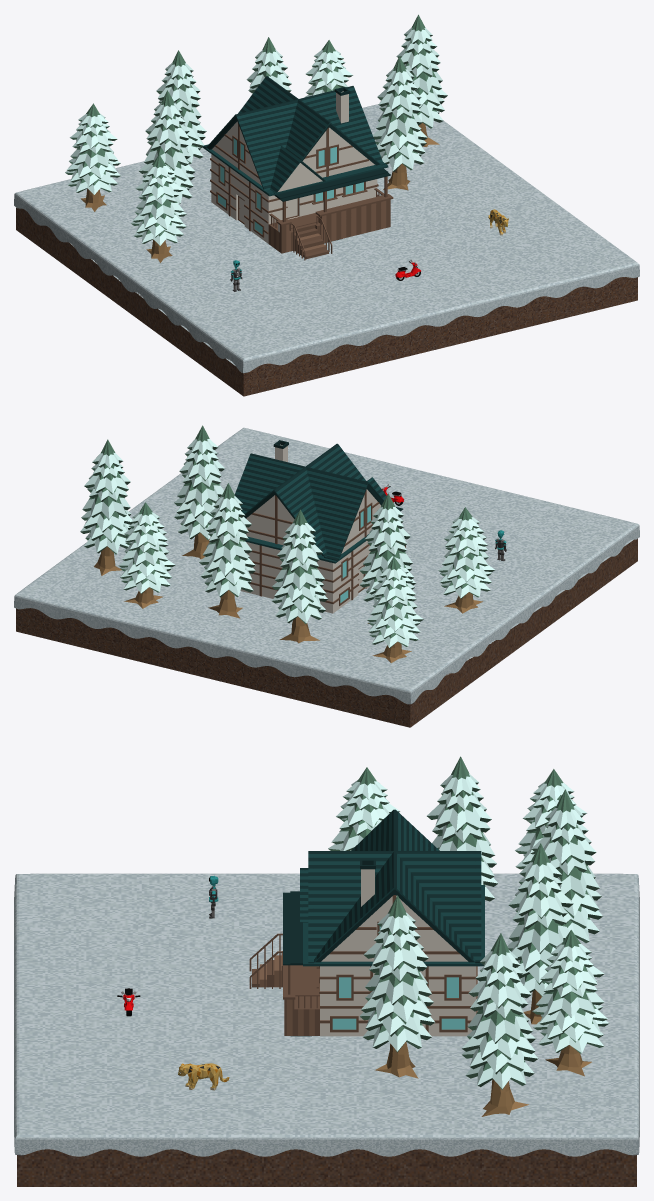
The picture shows the model from 3 angles, top to bottom: view 1: azimuth 30°, elevation 25°; view 2: azimuth 150°, elevation 25°; view 3: azimuth 270°, elevation 25°; orthographic projection. The views are drawn at different scales.
Visible parts, largest first — view 1: Cube.003, Cube.793; view 2: Cube.003, Cube.793; view 3: Cube.003, Cube.793, ANIMAL_JAGUAR.
Boxes of the visible parts, x1,y1,x2,y2 form: Cube.003: (14, 14, 639, 396); Cube.793: (202, 76, 393, 260); Cube.003: (14, 425, 639, 727); Cube.793: (234, 440, 405, 613); Cube.003: (14, 756, 639, 1186); Cube.793: (249, 809, 484, 1036); ANIMAL_JAGUAR: (178, 1063, 229, 1090).
Size of the model in its own units: 4040 by 1670 by 4040.
32 materials, 4 textured.
